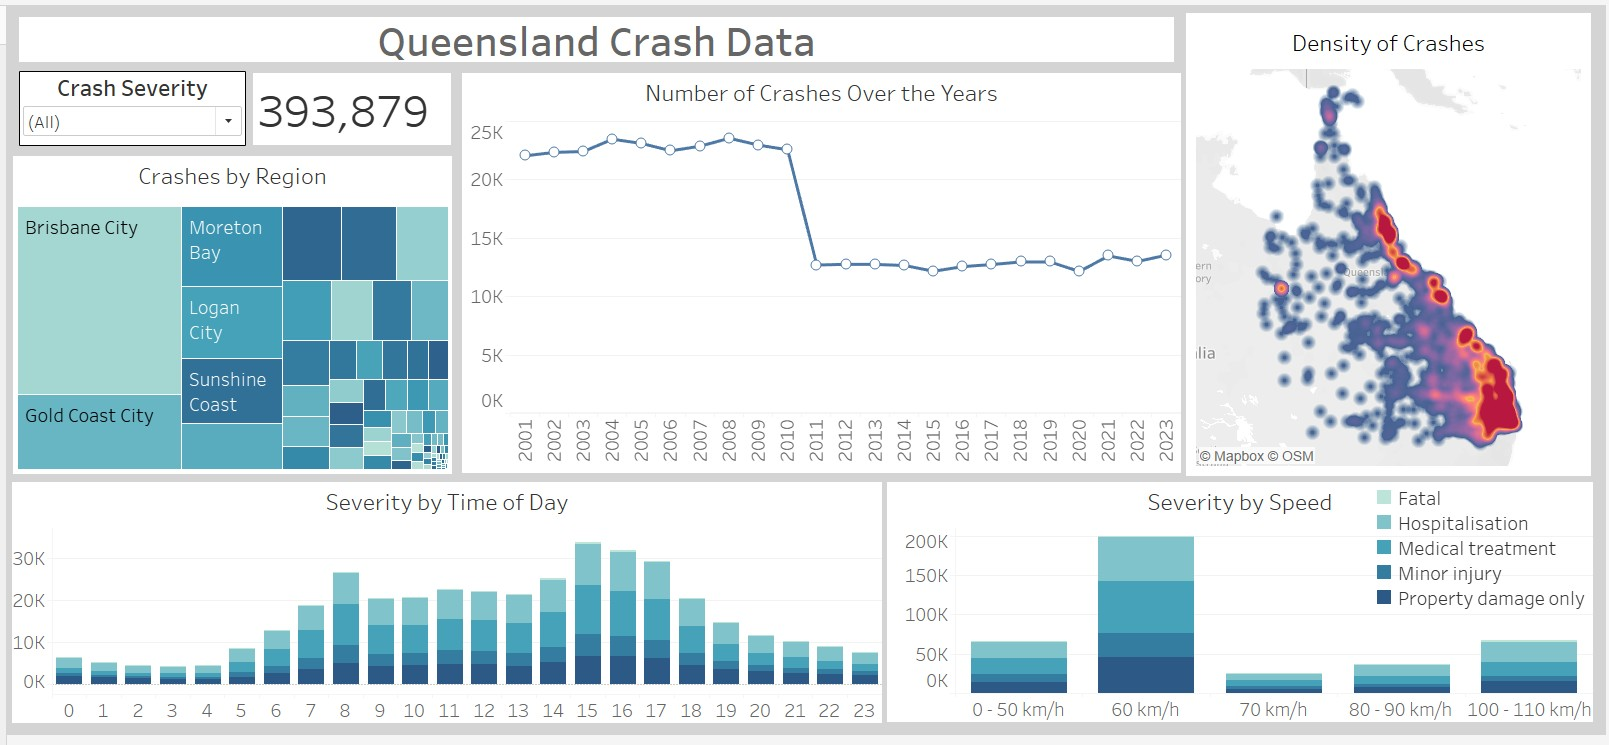

The dashboard page shown, as its layout file describes it:
{"tool":"tableau","page":{"name":"Final Dashboard","canvas":[1600,730],"ordinal":0},"visuals":[{"type":"worksheet","title":"Density of Crashes","mark":"Heatmap","rows":["Crash_Latitude"],"cols":["Crash_Longitude"],"box":[1179,8,405,463]},{"type":"text","box":[12,12,1155,45]},{"type":"filter","title":"Count by location","param":"[federated.01zmdve1fvpesr1d4mebu0hwht0r].[none:Crash_Severity:nk]","box":[12,65.7,227,74.8]},{"type":"worksheet","title":"Number of Crashes","mark":"Automatic","box":[246,68,198,72]},{"type":"worksheet","title":"Crash Trends Over Time","mark":"Automatic","rows":["Crash_Ref_Number","Crash_Ref_Number"],"cols":["Calculation_1617073756944740352"],"box":[455,68,719,400]},{"type":"worksheet","title":"Count by location","mark":"Automatic","box":[6,151,439,318]},{"type":"worksheet","title":"Severity by time","mark":"Automatic","rows":["Crash_Ref_Number"],"cols":["Crash_Hour"],"box":[5,477,870,241]},{"type":"worksheet","title":"Severity by speed","mark":"Automatic","rows":["Crash_Ref_Number"],"cols":["Crash_Speed_Limit"],"box":[880,477,706,240]},{"type":"legend","title":"Severity by speed","param":"[federated.01zmdve1fvpesr1d4mebu0hwht0r].[none:Crash_Severity:nk]","box":[1365,480,230,126]}]}

Visuals, with their boxes in screenshot pixels (x1, y1, x2, y2), scaled from the page's 1600x730 canvas onto the 1609x745 screenshot:
"Density of Crashes" worksheet (Heatmap marks): pyautogui.locateOnScreen(1186, 8, 1593, 481)
text: pyautogui.locateOnScreen(12, 12, 1174, 58)
"Count by location" filter: pyautogui.locateOnScreen(12, 67, 240, 143)
"Number of Crashes" worksheet: pyautogui.locateOnScreen(247, 69, 446, 143)
"Crash Trends Over Time" worksheet: pyautogui.locateOnScreen(458, 69, 1181, 478)
"Count by location" worksheet: pyautogui.locateOnScreen(6, 154, 448, 479)
"Severity by time" worksheet: pyautogui.locateOnScreen(5, 487, 880, 733)
"Severity by speed" worksheet: pyautogui.locateOnScreen(885, 487, 1595, 732)
"Severity by speed" legend: pyautogui.locateOnScreen(1373, 490, 1604, 618)
